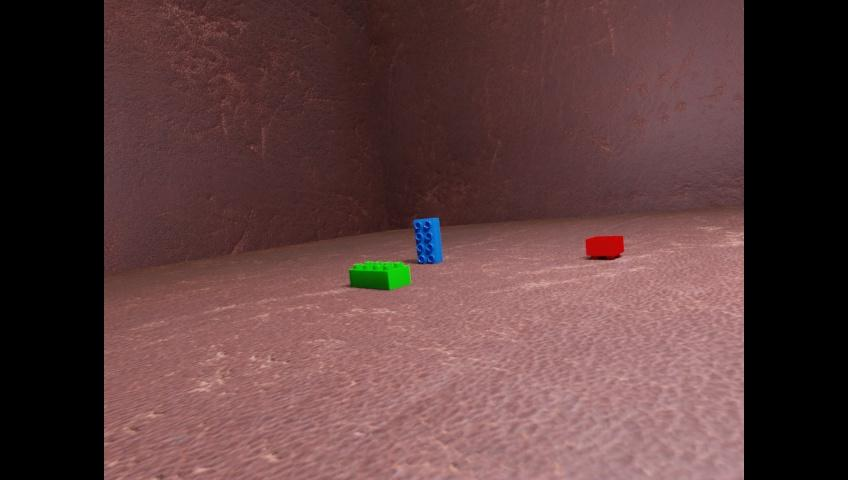2x2_red: (585, 235, 623, 259)
4x2_blue: (413, 217, 442, 263)
4x2_green: (348, 261, 410, 289)
